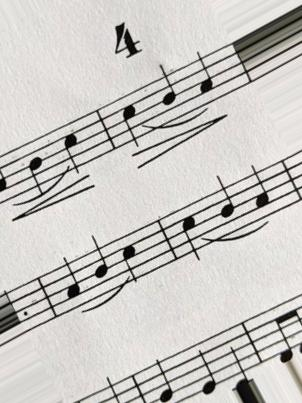A: (54, 254, 90, 312), (242, 164, 275, 217), (188, 51, 218, 106)
B: (88, 234, 120, 287), (213, 172, 238, 233), (155, 64, 183, 114), (21, 148, 53, 190)
E: (195, 341, 224, 398)
G: (143, 358, 180, 402)
HC: (173, 209, 207, 265), (115, 97, 150, 149), (114, 235, 144, 287), (58, 126, 84, 180)
